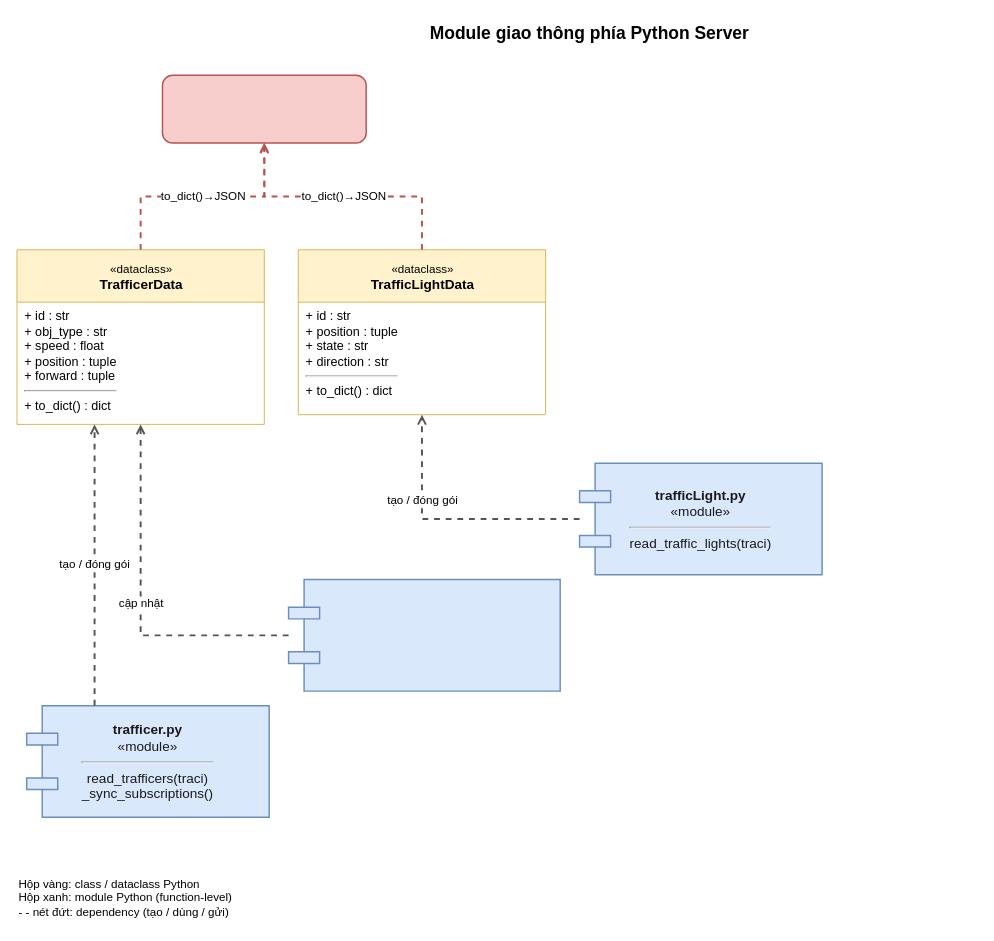
Some shapes in this 994 by 941 pixel diagram are drawn without their labels. The shapes that lost their labels are listed below. From the top down, each one's centre as x and y in pixels, then its label:
point 263,108: TCP 5050 (gửi tới Unity Client)
point 423,634: unity_vehicle.py «module» process_vehicle_updates(traci) _remove_vehicle()
